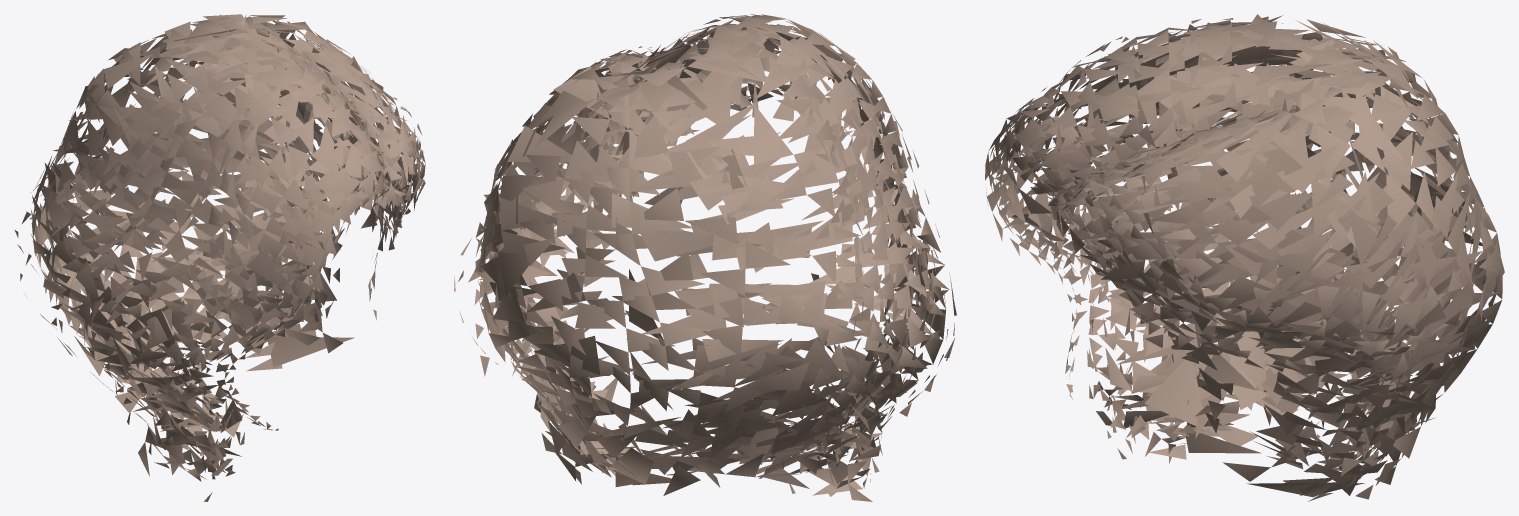
Rendered from female_hair_04_lod1.glb.
3 renders of one model, left to right at view 1: azimuth 30°, elevation 25°; view 2: azimuth 150°, elevation 25°; view 3: azimuth 270°, elevation 25°, orthographic. The views are drawn at different scales.
Parts seen in each view (by area): view 1: female-hair-04; view 2: female-hair-04; view 3: female-hair-04.
Boxes of the visible parts, x1,y1,x2,y2 form: female-hair-04: (14, 14, 425, 501); female-hair-04: (454, 14, 956, 501); female-hair-04: (985, 14, 1504, 501).
Size of the model in its own units: 0.2261 by 0.2505 by 0.2478.
